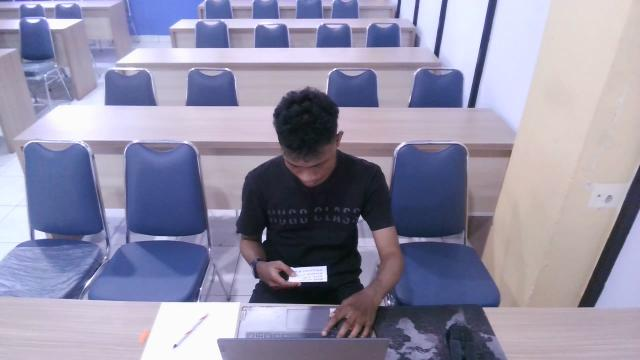Cheat_Sheet: (278, 262, 330, 286)
Head_Down_Extreme: (224, 78, 403, 323)
